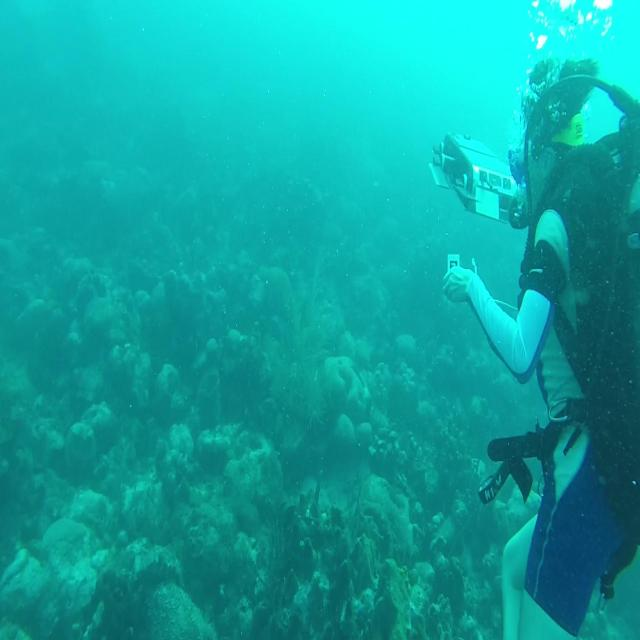human: (441, 55, 638, 638)
